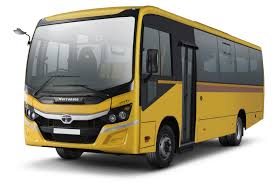bus: (14, 4, 265, 169)
